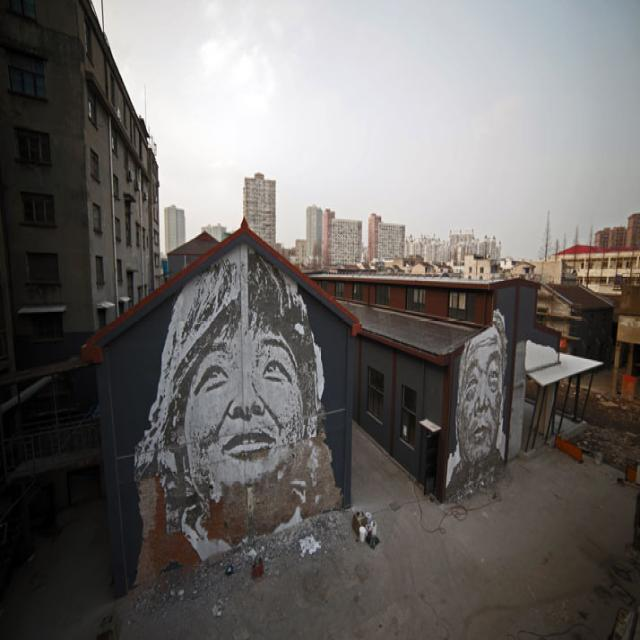-: (134, 252, 328, 572), (454, 308, 504, 484)
